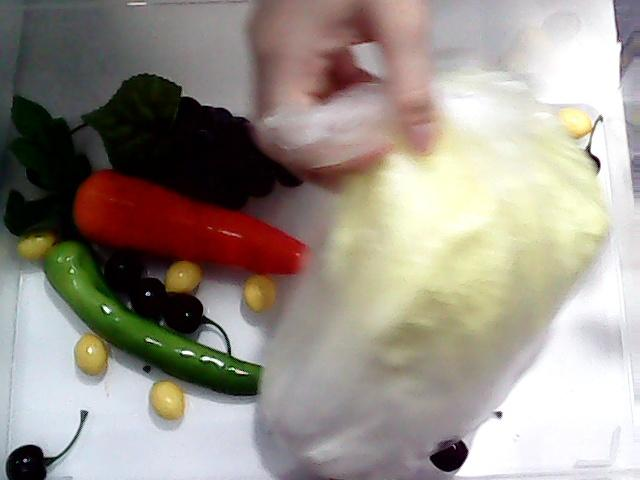carrot: (0, 88, 312, 276)
grape: (87, 70, 313, 210)
napa cabbage: (253, 88, 615, 480)
pepper: (36, 244, 296, 396)
